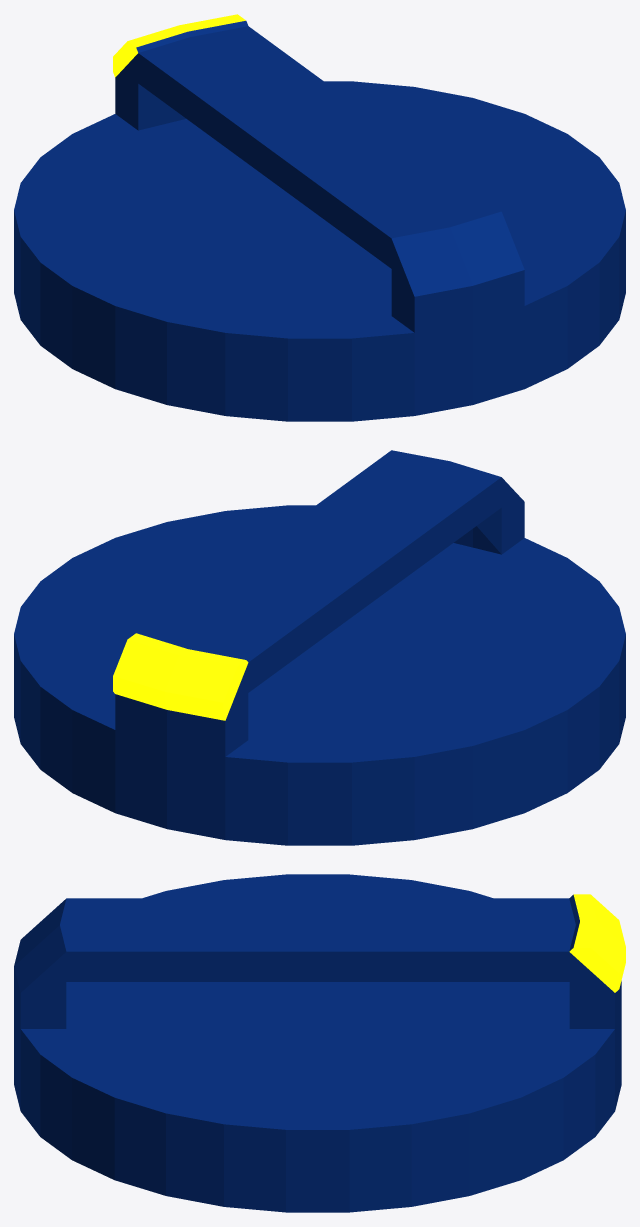
Rendered from Dial.fbx.
3 renders of one model, top to bottom at view 1: azimuth 30°, elevation 25°; view 2: azimuth 150°, elevation 25°; view 3: azimuth 270°, elevation 25°, orthographic.
Visible parts, largest first — view 1: Circle; view 2: Circle; view 3: Circle.
Part boxes in pixels (x1,y1,x2,y2): Circle: (14,14,625,421); Circle: (14,450,625,845); Circle: (14,874,625,1212).
Size of the model in its own units: 99.45 by 29.71 by 101.
